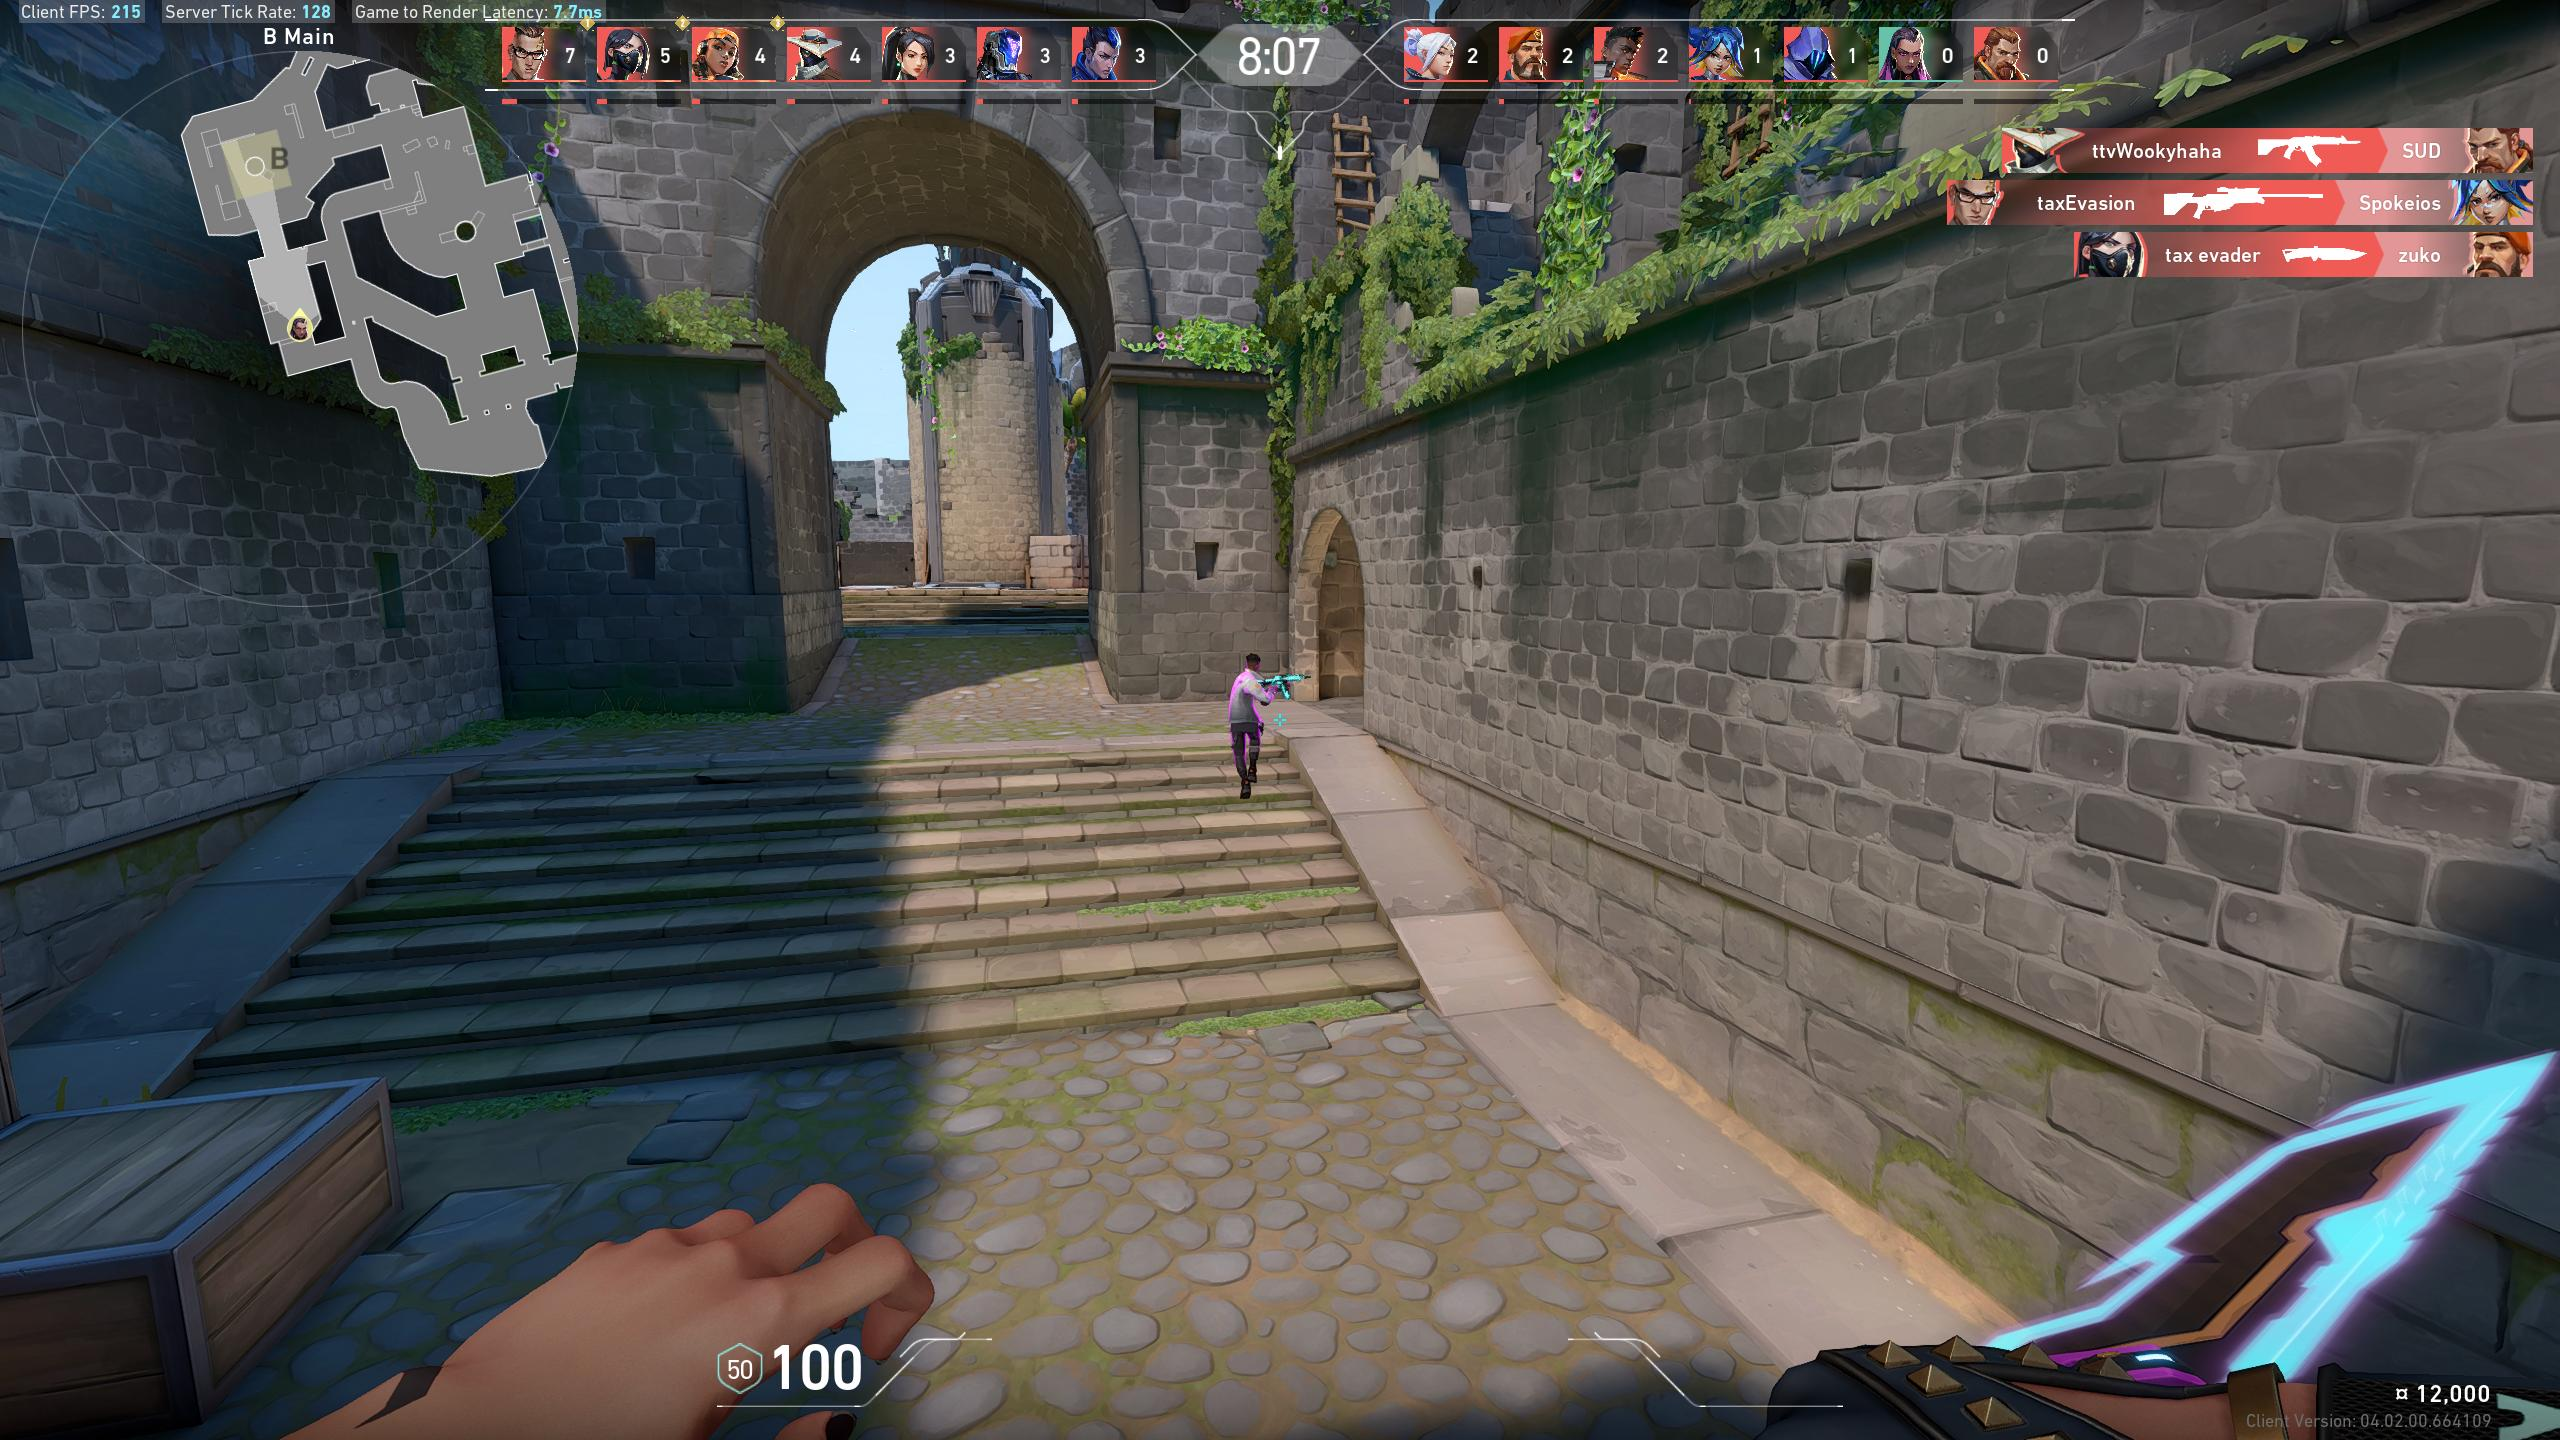enemyBody: (1236, 675, 1252, 723)
enemyHead: (1247, 658, 1257, 670)
